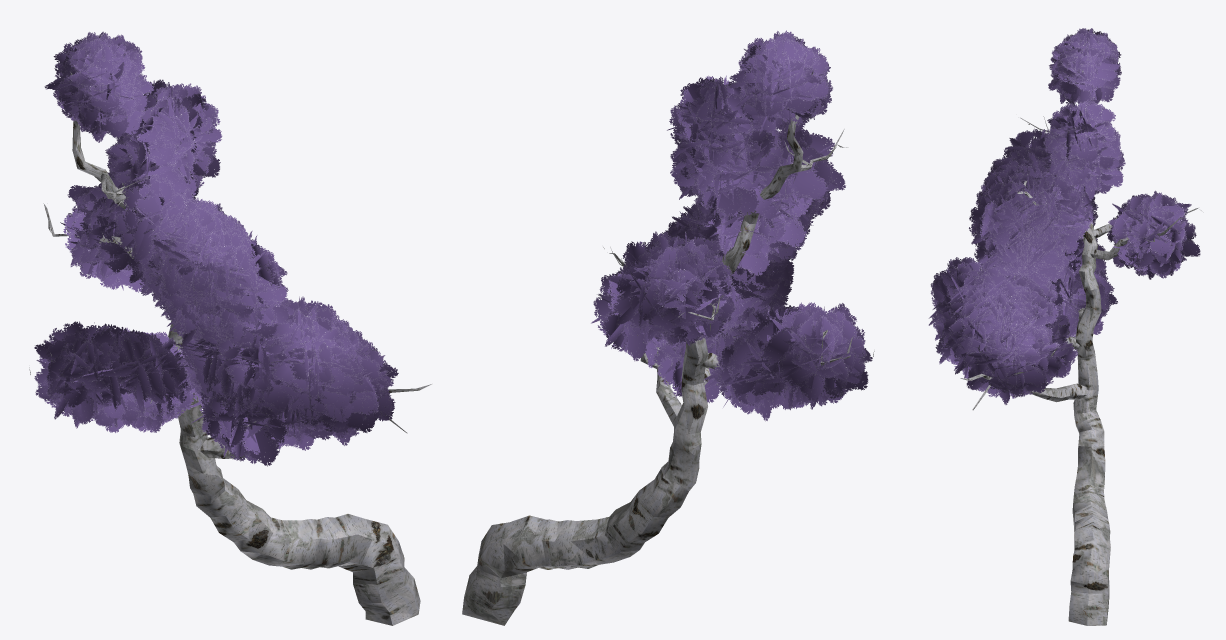
The model's file is tree_w_material 5.fbx.
3 renders of one model, left to right at view 1: azimuth 30°, elevation 25°; view 2: azimuth 150°, elevation 25°; view 3: azimuth 270°, elevation 25°, orthographic. The views are drawn at different scales.
Visible parts, largest first — view 1: geo1; view 2: geo1; view 3: geo1.
Part boxes in pixels (bbox=[...]): geo1: bbox=[29, 31, 431, 625]; geo1: bbox=[462, 30, 874, 625]; geo1: bbox=[928, 28, 1203, 625].
Size of the model in its own units: 485 by 767 by 411.
